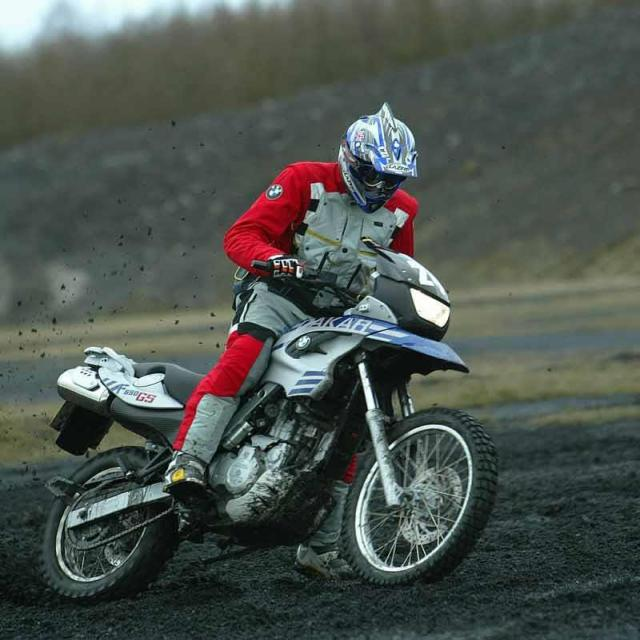illegal_helmet: (334, 99, 424, 217)
